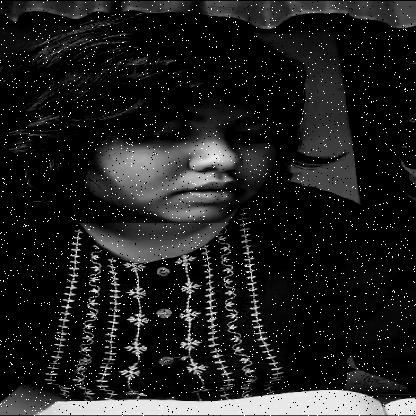Distracted: (60, 65, 292, 223)
